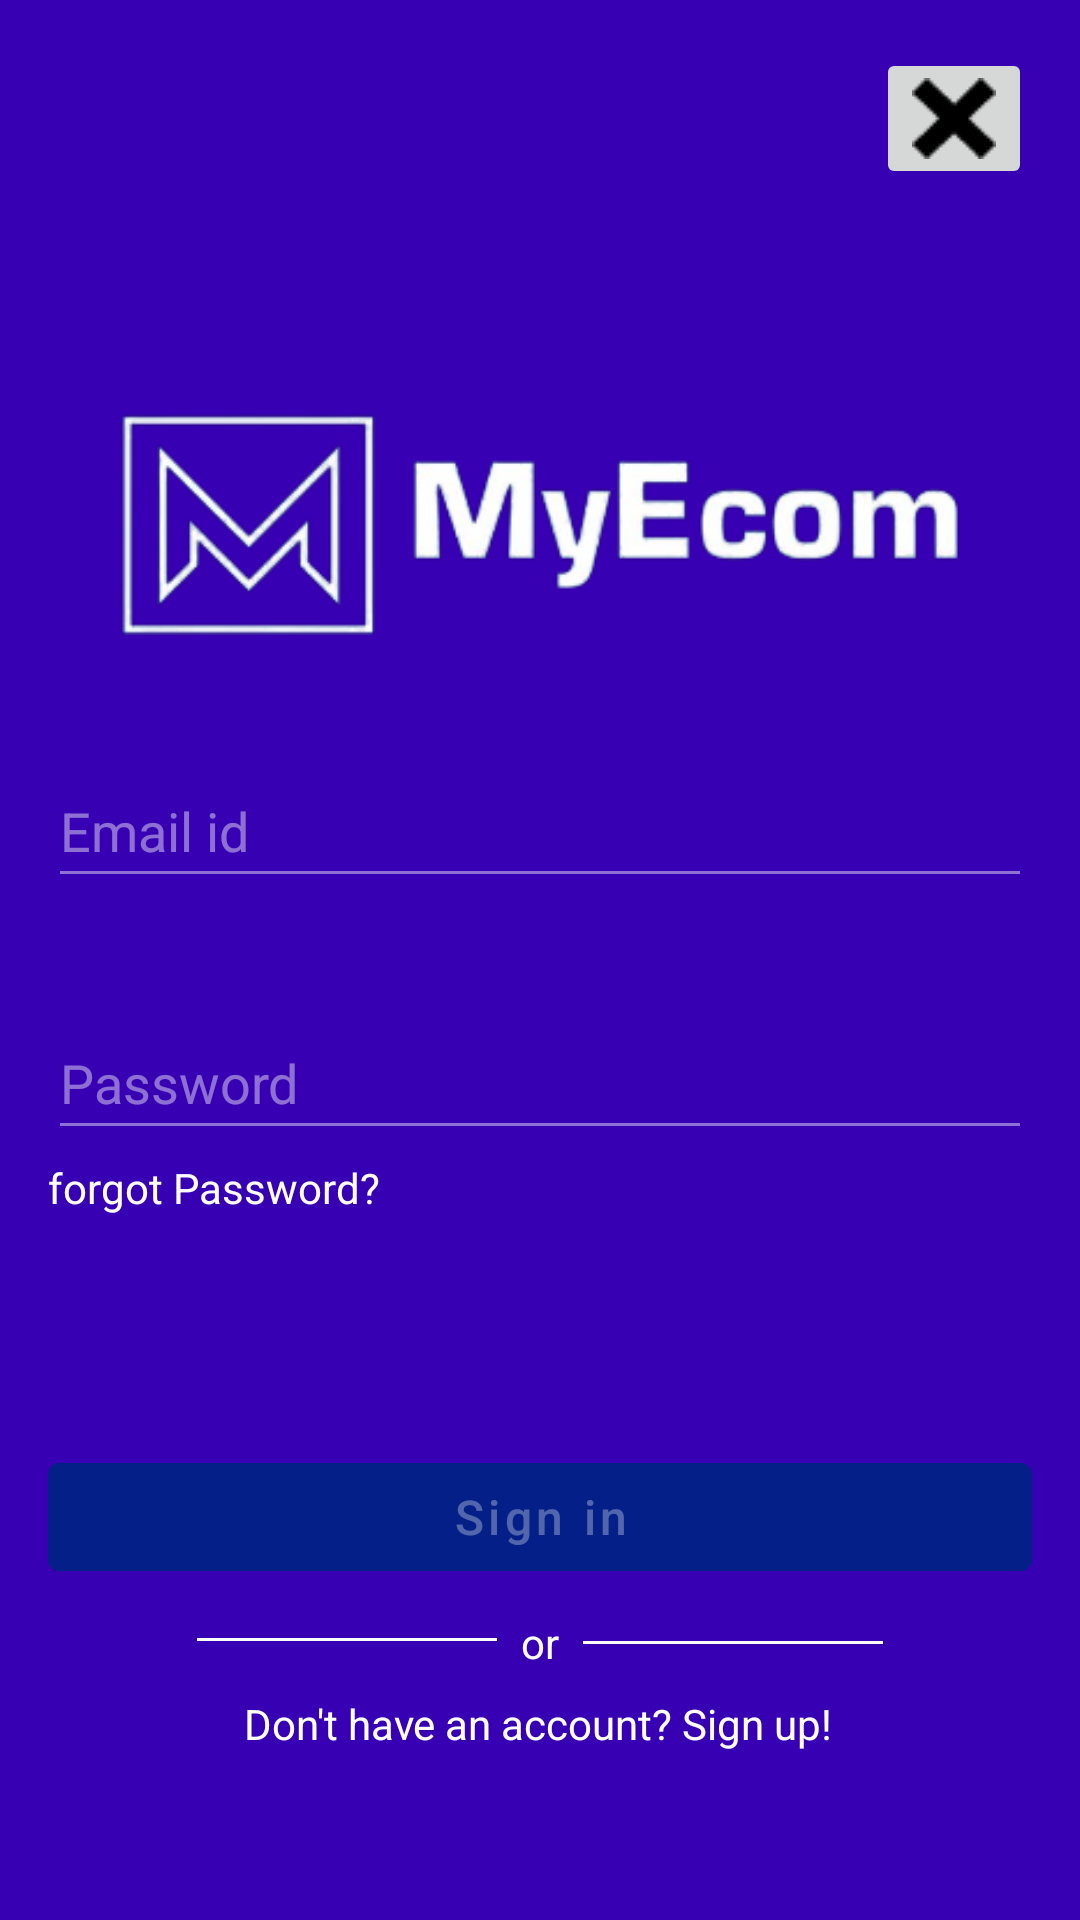

Named icons in this screenshot (1080px x 1920px) and their centers, (x=x, y=y):
close cross: (x=954, y=118)
